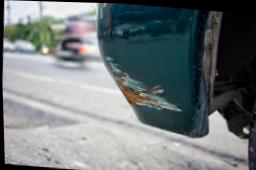Bumper: (99, 14, 192, 133)
